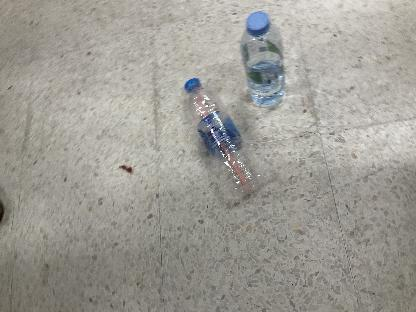Plastic Bottle: (185, 78, 261, 204), (239, 12, 287, 108)
